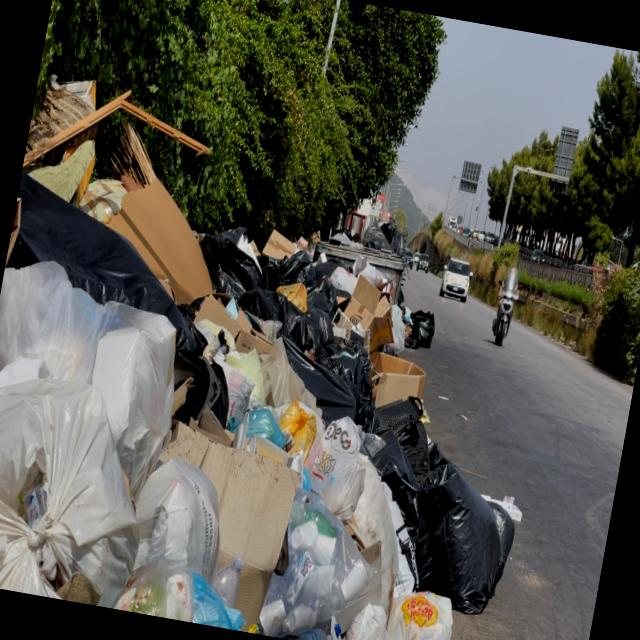garbage: (0, 89, 568, 640)
